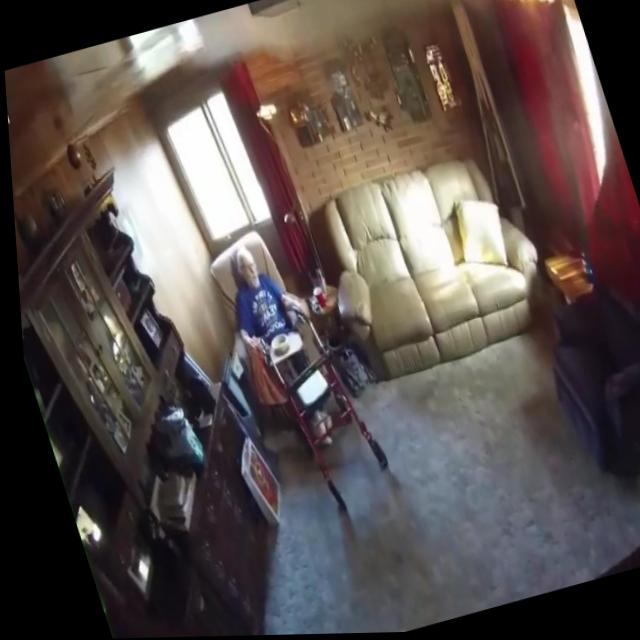fire: (479, 0, 565, 22)
